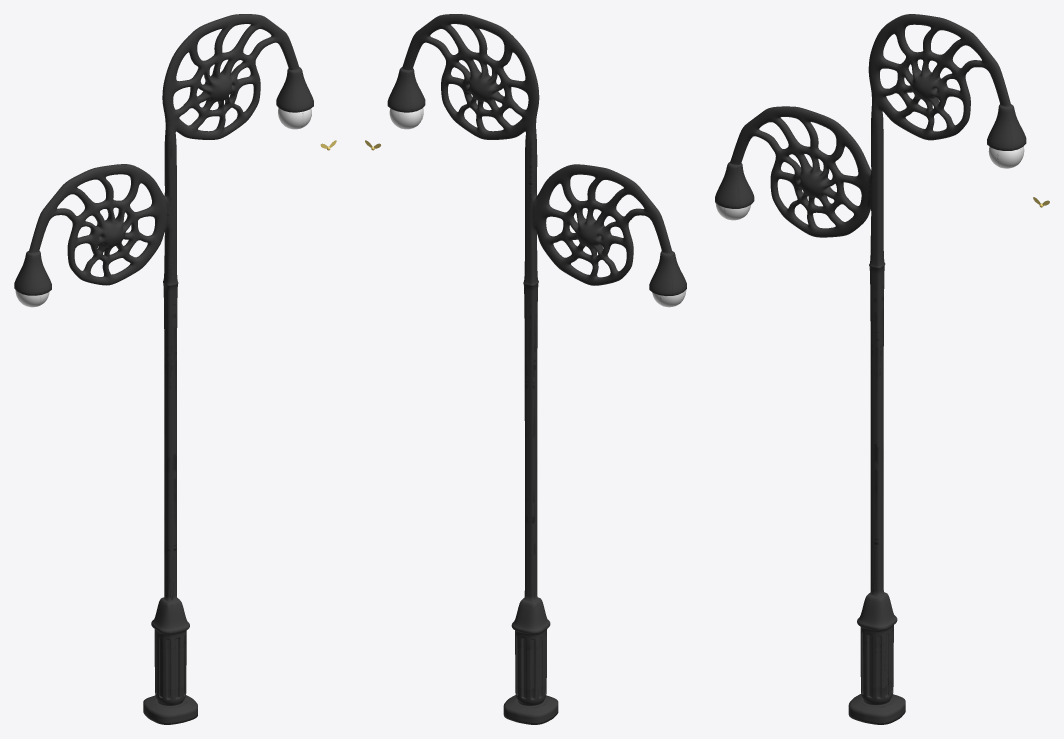
The model's file is streetLight.fbx.
3 renders of one model, left to right at view 1: azimuth 30°, elevation 25°; view 2: azimuth 150°, elevation 25°; view 3: azimuth 330°, elevation 25°, orthographic. The views are drawn at different scales.
Visible parts, largest first — view 1: Street Light, Lamp; view 2: Street Light, Lamp; view 3: Street Light, Lamp.
Part boxes in pixels (bbox=[...]): Street Light: bbox=[14, 14, 313, 724]; Lamp: bbox=[278, 108, 311, 129]; Street Light: bbox=[387, 14, 686, 724]; Lamp: bbox=[389, 108, 423, 129]; Street Light: bbox=[715, 14, 1026, 724]; Lamp: bbox=[988, 146, 1024, 168].
Size of the model in its own units: 1868 by 3816 by 257.
